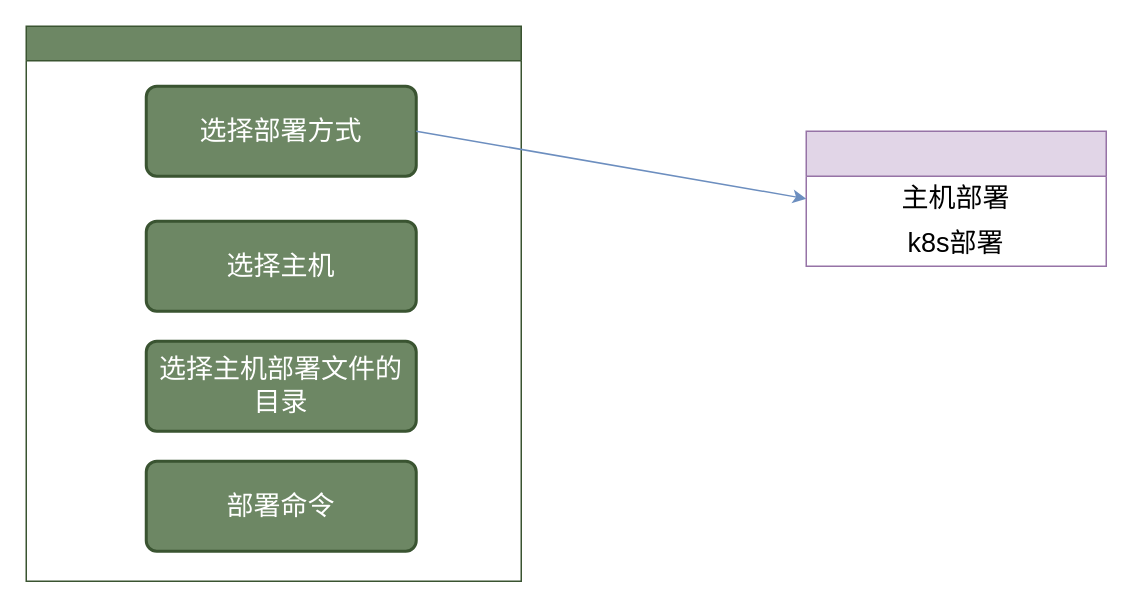
Some shapes in this 1133 by 608 pixel diagram are drawn without their labels. The shapes that lost their labels are listed below. From the top down, each one's box as (x1, y1, x2, y2) in pixels, then its label:
(805, 130, 1106, 266): 部署方式
(25, 25, 521, 581): 插件界面内容
